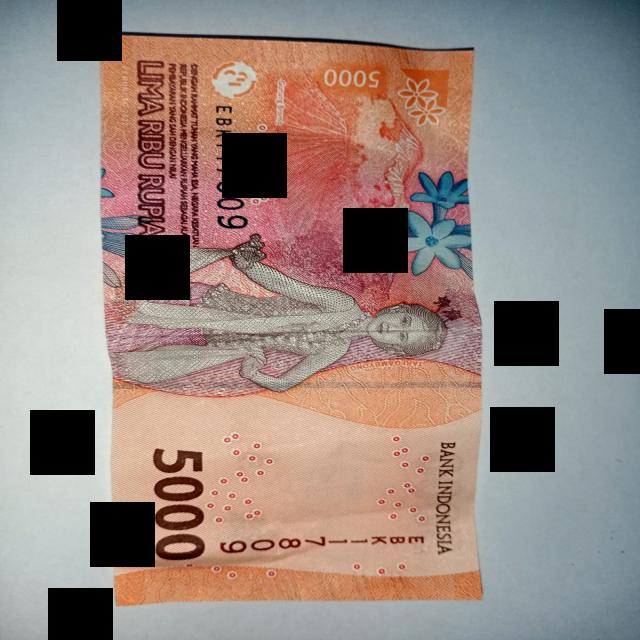lima ribu rupiah: (102, 34, 482, 605)
